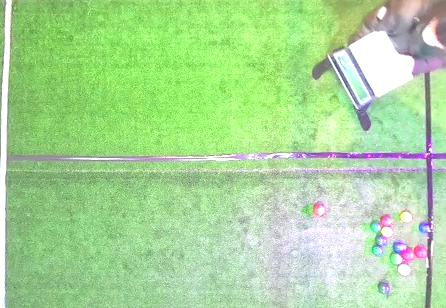blue: (393, 242, 403, 252), (419, 223, 429, 232)
green: (391, 253, 402, 264), (378, 283, 389, 294), (371, 222, 381, 232), (372, 245, 382, 255), (376, 236, 386, 245)
red: (398, 264, 410, 276), (415, 246, 427, 257), (314, 204, 324, 216), (381, 216, 392, 226), (402, 249, 413, 259)
vline: (424, 74, 445, 307), (0, 0, 14, 307)
white: (403, 245, 406, 250)
yellow: (401, 212, 412, 222), (381, 227, 392, 237)
